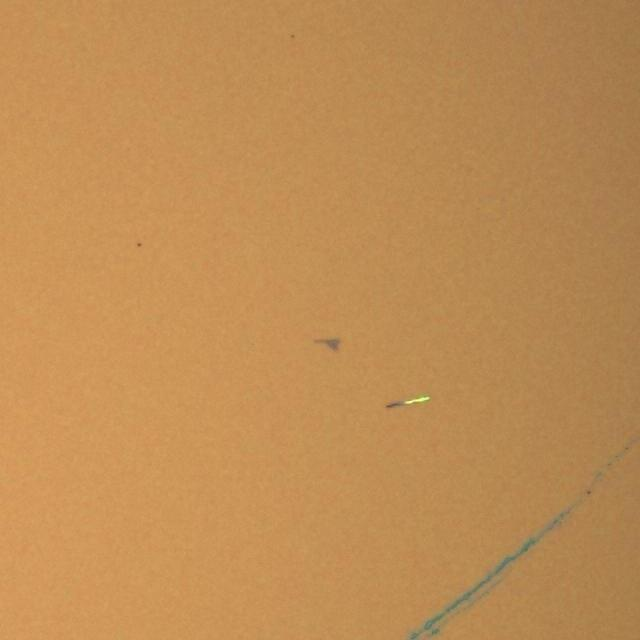monolayer-eWW4: (313, 338, 342, 352)
